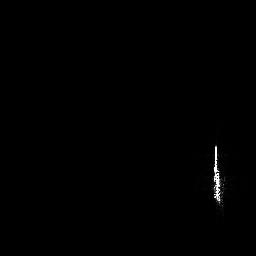ship: (211, 144, 226, 211)
